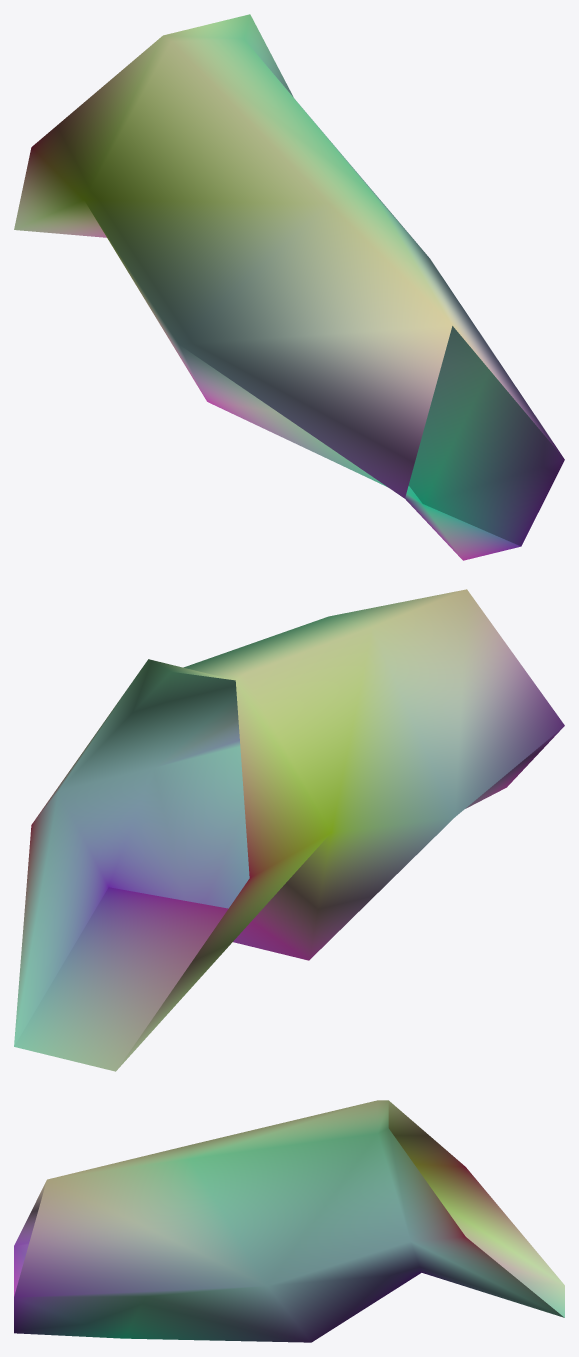
The picture shows the model from 3 angles, top to bottom: view 1: azimuth 30°, elevation 25°; view 2: azimuth 150°, elevation 25°; view 3: azimuth 270°, elevation 25°; orthographic projection. The views are drawn at different scales.
Parts seen in each view (by area): view 1: part; view 2: part; view 3: part.
Part boxes in pixels (x1,y1,x2,y2): part: (14,14,564,560); part: (14,589,564,1071); part: (14,1100,564,1342).
Size of the model in its own units: 19 by 22 by 50.
